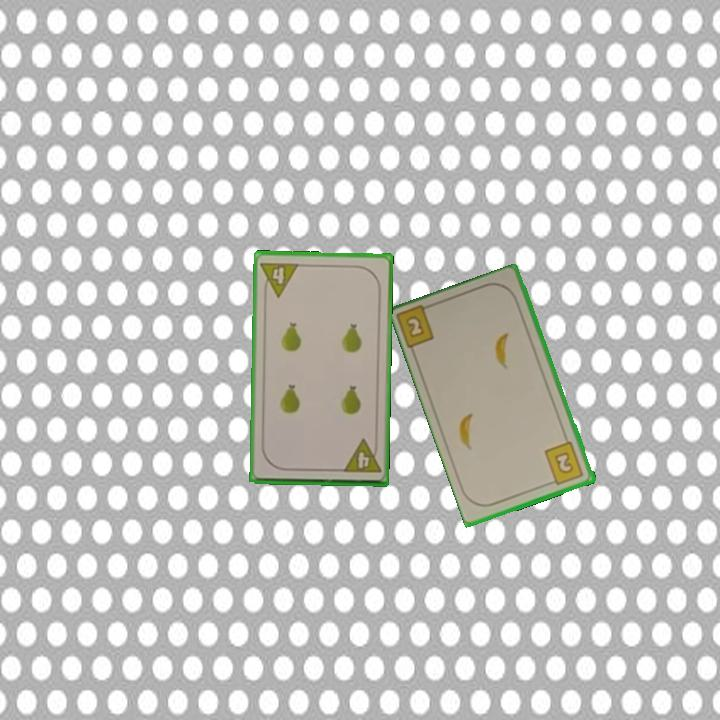2b: (541, 438, 587, 488), (395, 300, 438, 352)
4p: (257, 258, 302, 300), (339, 436, 384, 476)
